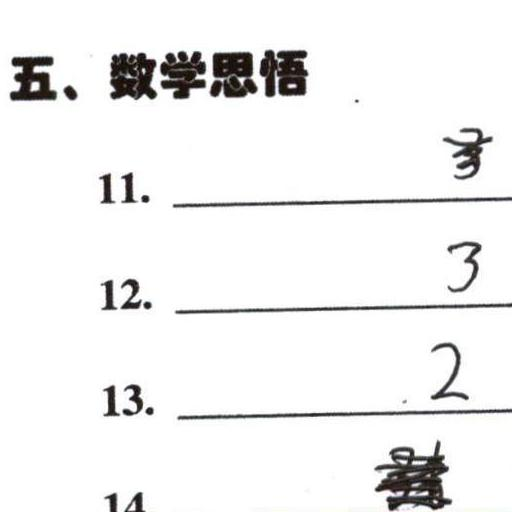ans: (427, 341, 471, 402), (443, 237, 483, 294)
